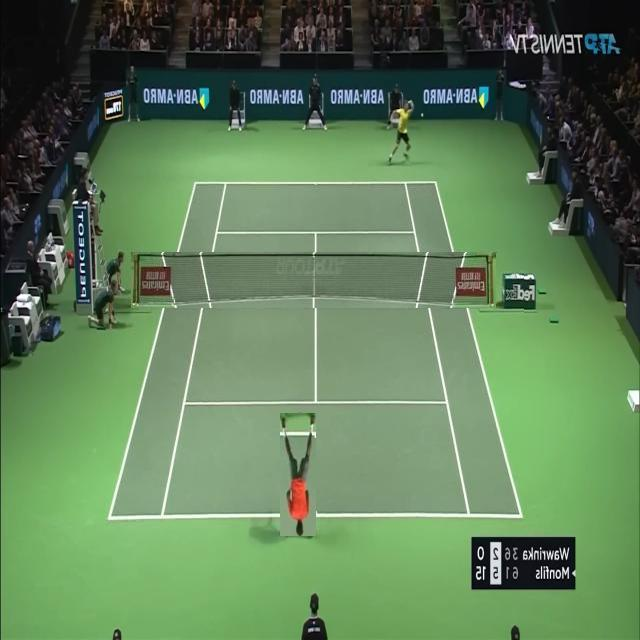court: (106, 182, 524, 522)
net: (132, 253, 498, 308)
player: (280, 414, 316, 536)
